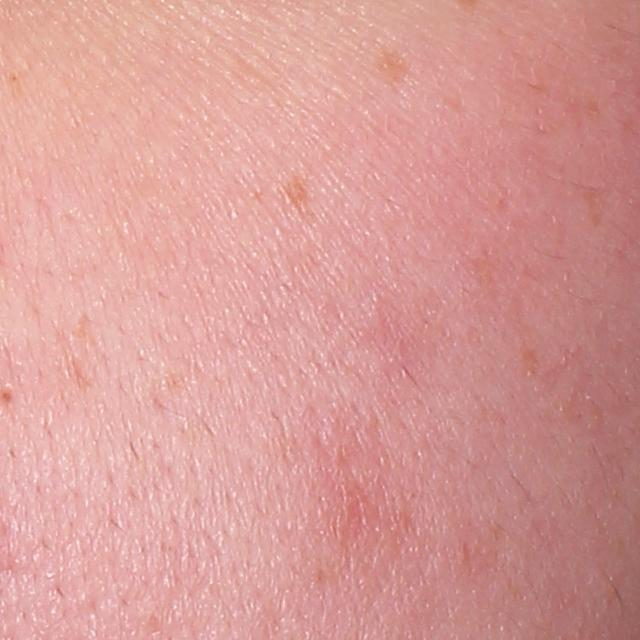melasma: (549, 91, 603, 137), (367, 48, 414, 94), (285, 183, 315, 213)
